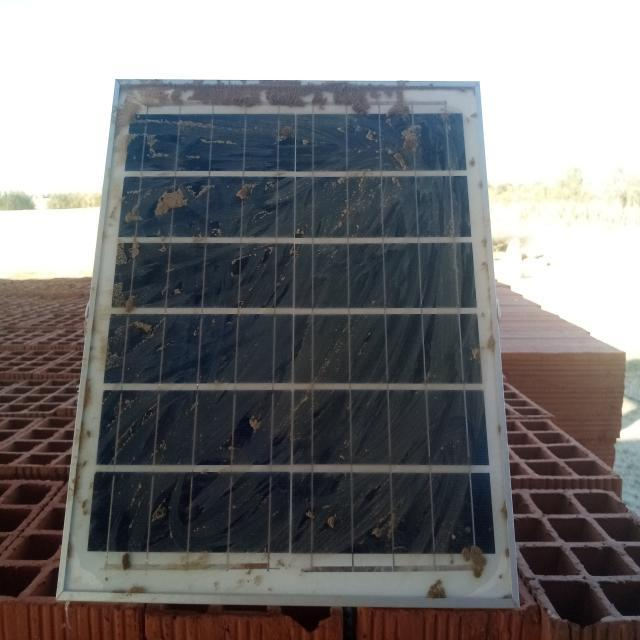faulty: (62, 82, 517, 599)
